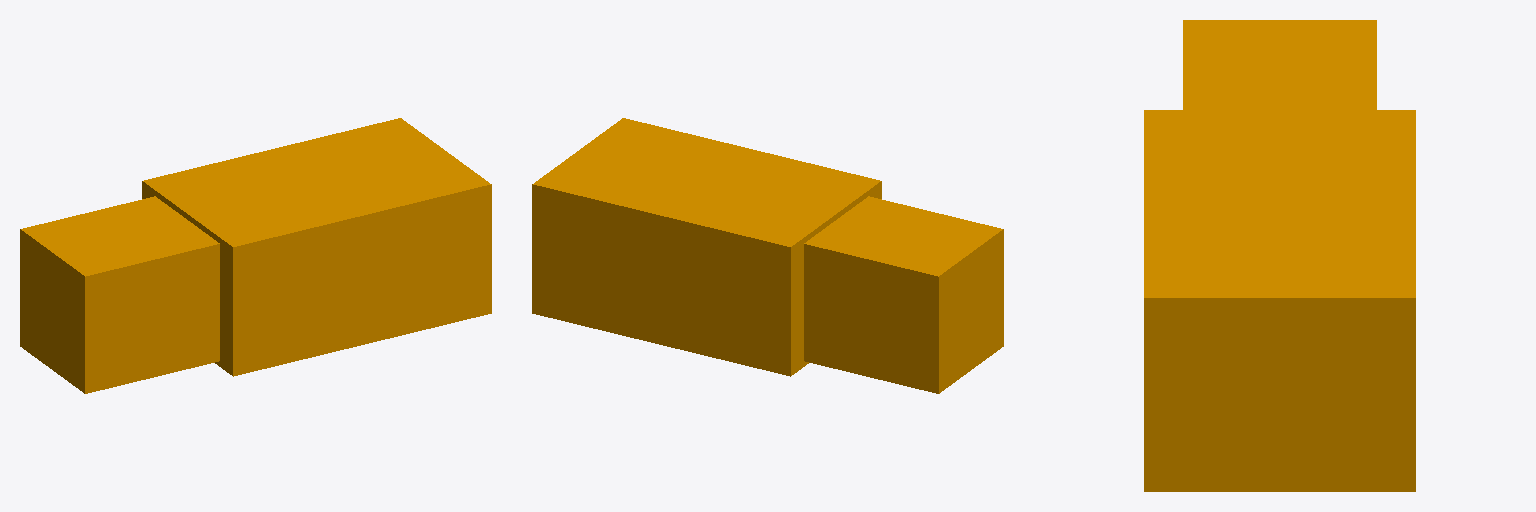
robot.urdf — rj45:
<?xml version="1.0"?>
<robot name="rj45">
  <link name="rj45">
    <visual><geometry><mesh filename="rj45_visual.obj"/></geometry></visual>
    <collision><geometry><mesh filename="rj45_hull.obj"/></geometry></collision>
  </link>
</robot>

--- Render facts (derived) ---
The picture shows the robot from 3 angles, left to right: view 1: azimuth 30°, elevation 25°; view 2: azimuth 150°, elevation 25°; view 3: azimuth 270°, elevation 25°; orthographic projection.
Robot: rj45 — 1 links, 0 joints (none); root link rj45; default pose: all joints at 0.
Visible links, largest first — view 1: rj45; view 2: rj45; view 3: rj45.
Link boxes in pixels (x1,y1,x2,y2): rj45: (20, 118, 491, 393); rj45: (532, 118, 1003, 393); rj45: (1144, 20, 1415, 491).
Bounding box of the posed robot: 0.035 × 0.014 × 0.011 m (x, y, z).
1 mesh visuals loaded from 1 distinct referenced files (1 OBJ).
